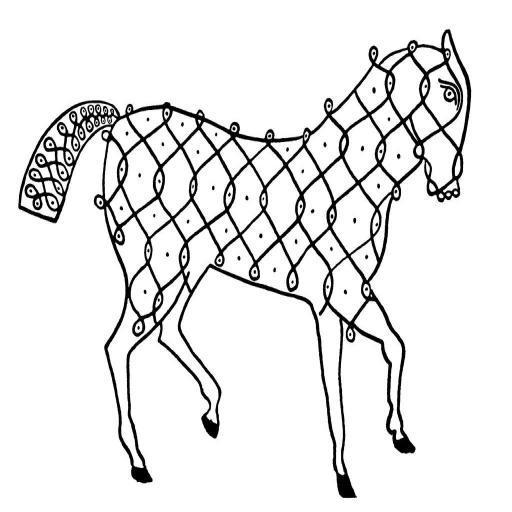horse: (16, 26, 474, 500)
